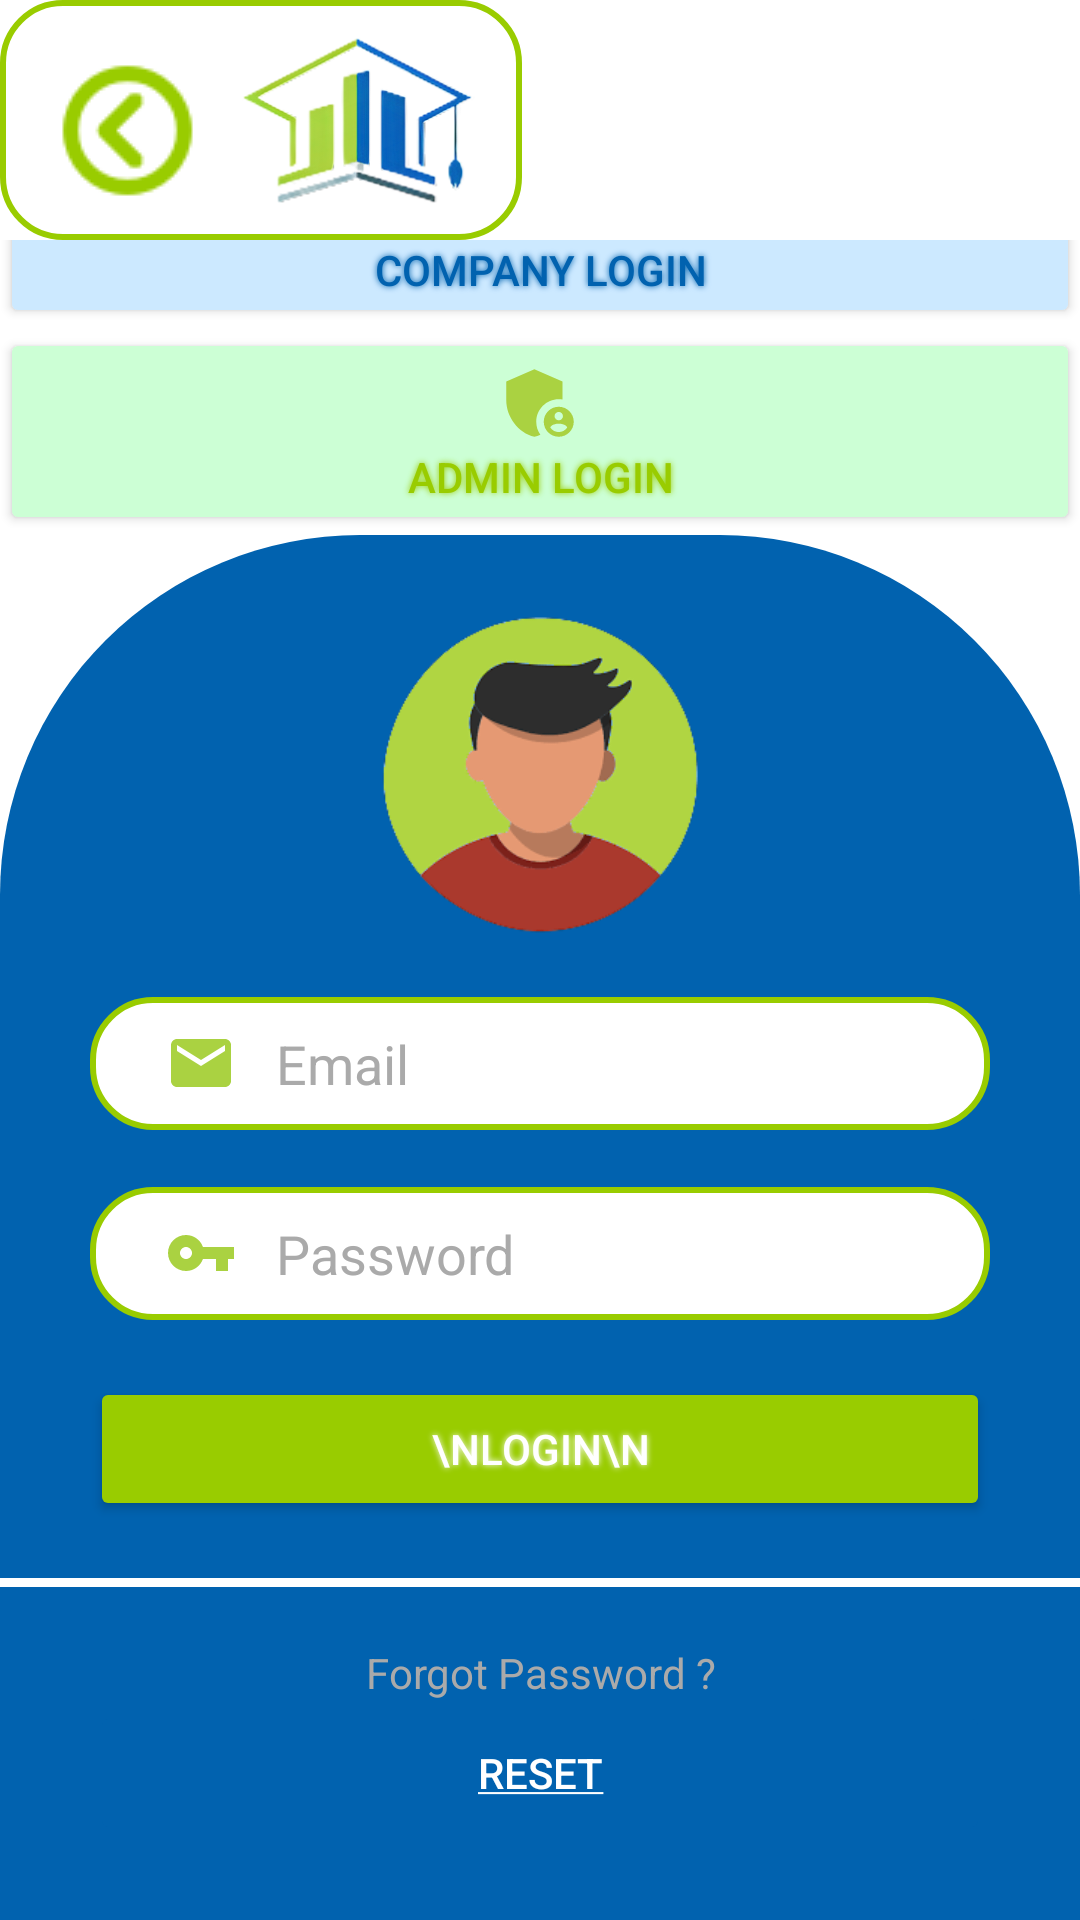

Where icons sit on this 1080×1920 app screen, as (x1, y1, x2, y2):
back: (62, 65, 193, 196)
